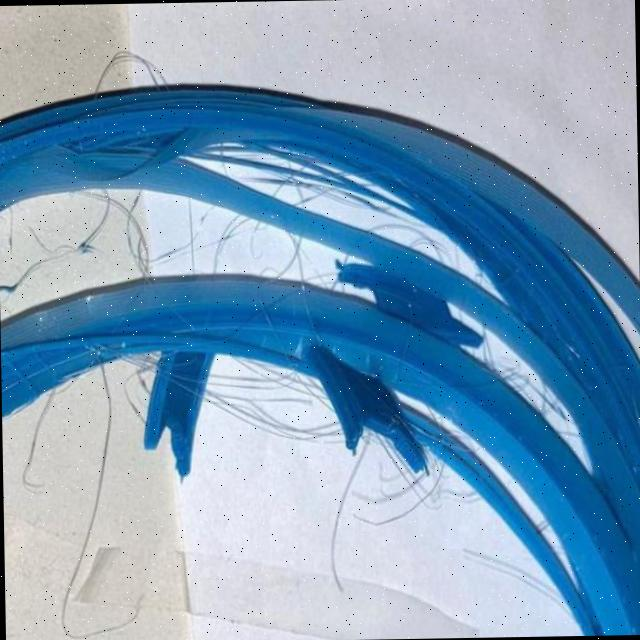stringing: (204, 369, 333, 439), (69, 193, 159, 275), (260, 160, 350, 203), (275, 231, 308, 284)
